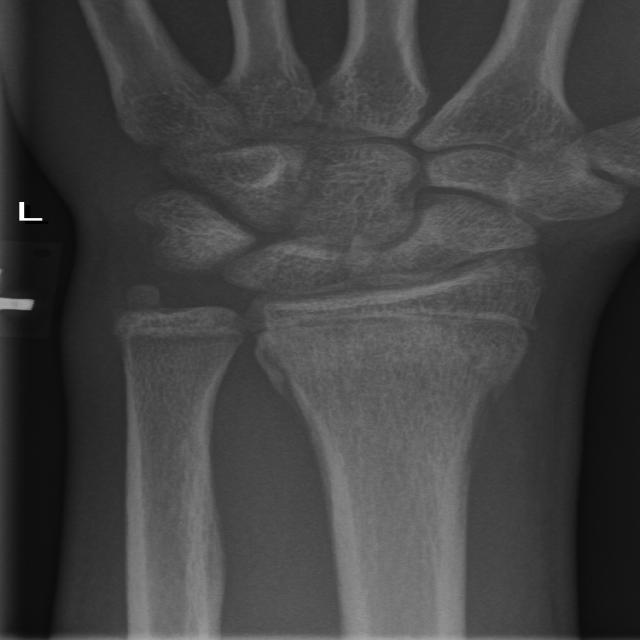radius fracture: (251, 336, 535, 427)
